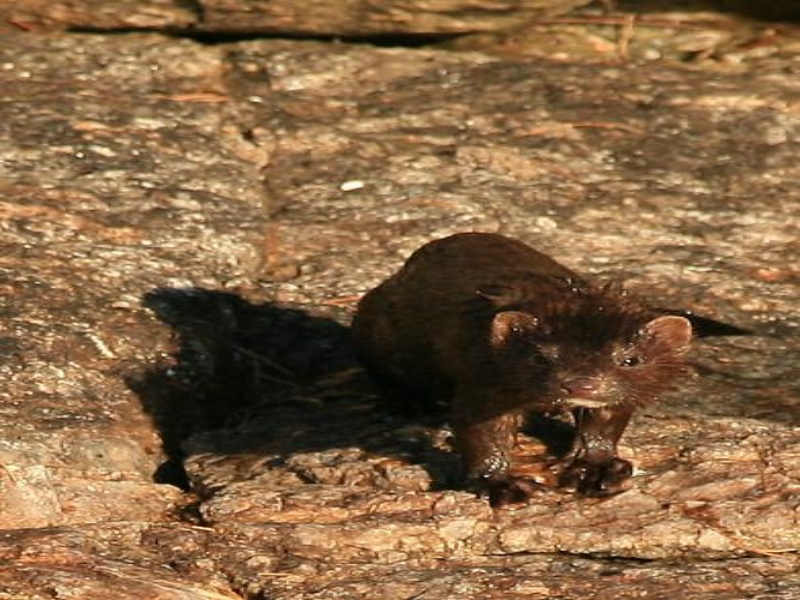minkish: (342, 227, 691, 497)
